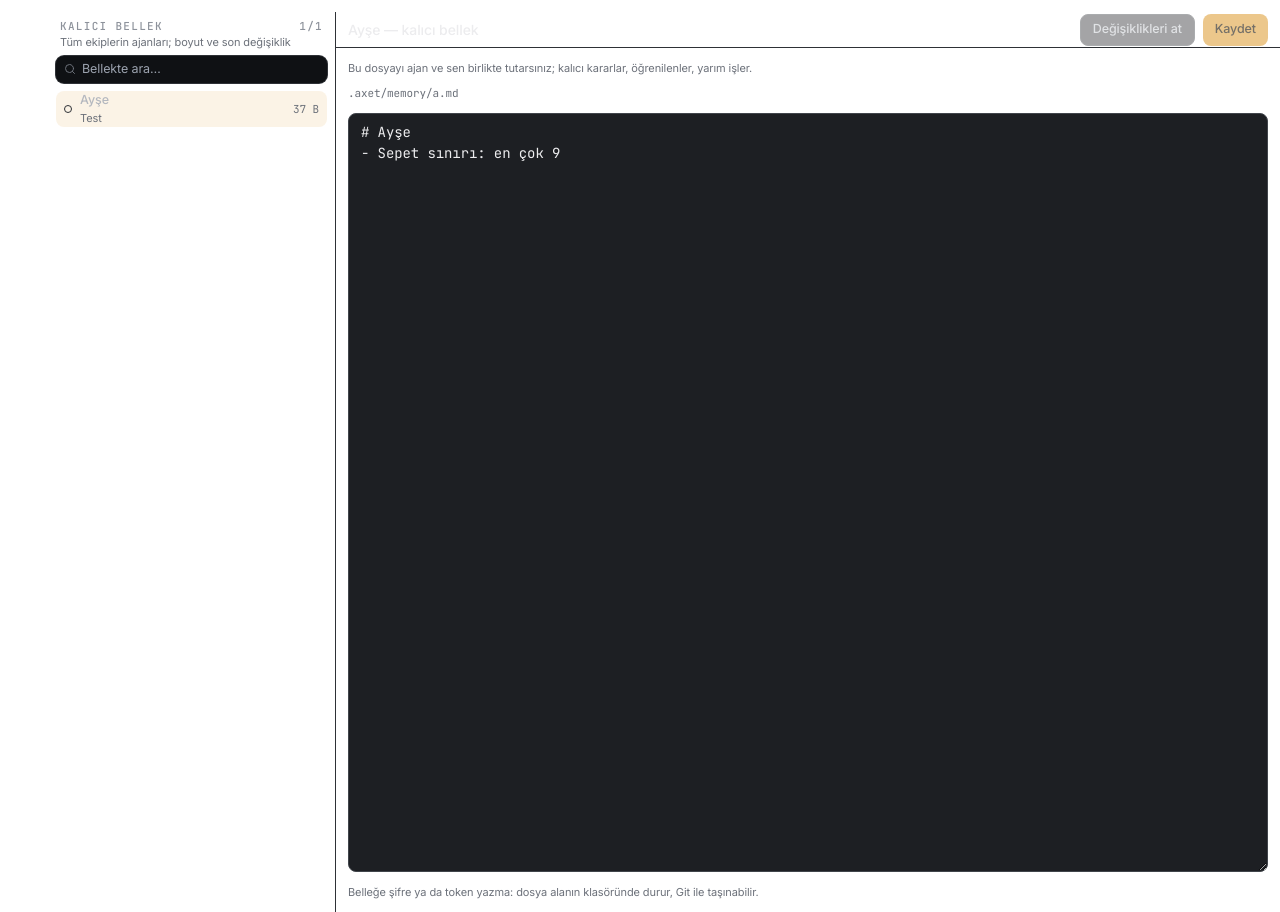
Scenario: MemoryView › 'Değişiklikleri at' metni diskteki hâline döndürüyor; hiçbir şey yazılmıyor
Replace the text in the text box named "Ayşe — kalıcı bellek" with "çöp" at [808, 492], box [348,113,1268,872]
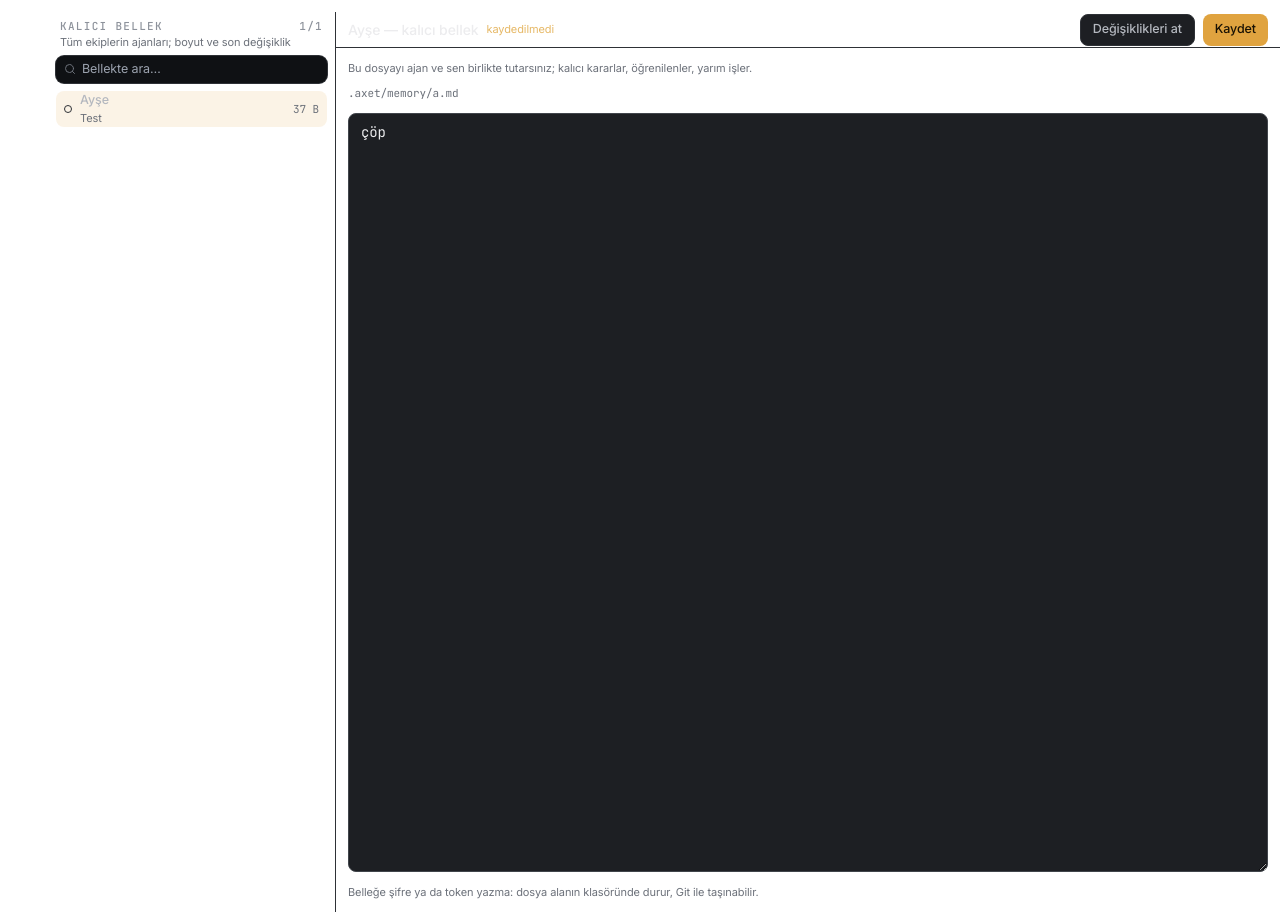
Click the button "Değişiklikleri at".
click(1137, 30)  # box [1080,14,1195,46]
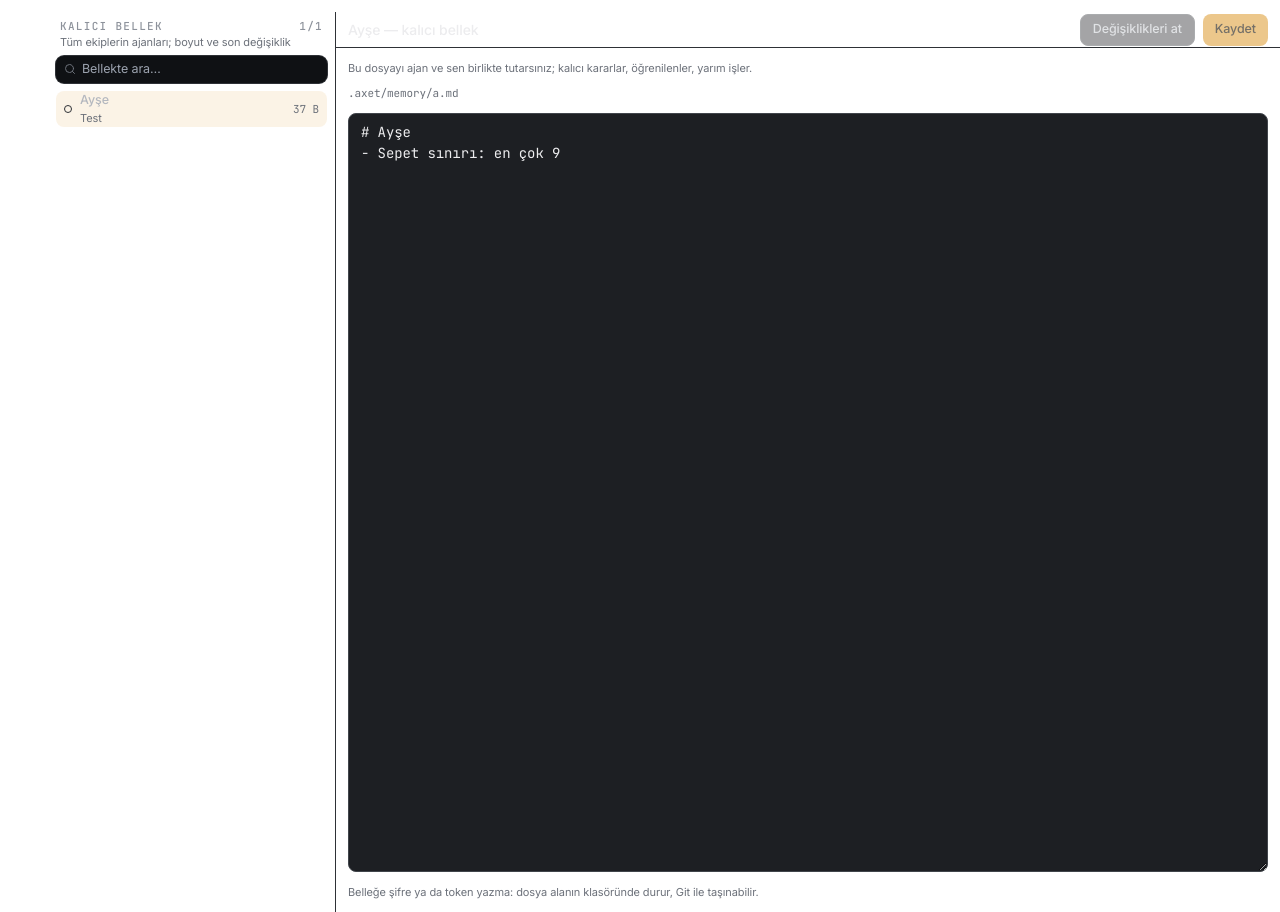
Expected: the text "kaydedilmedi" is gone
